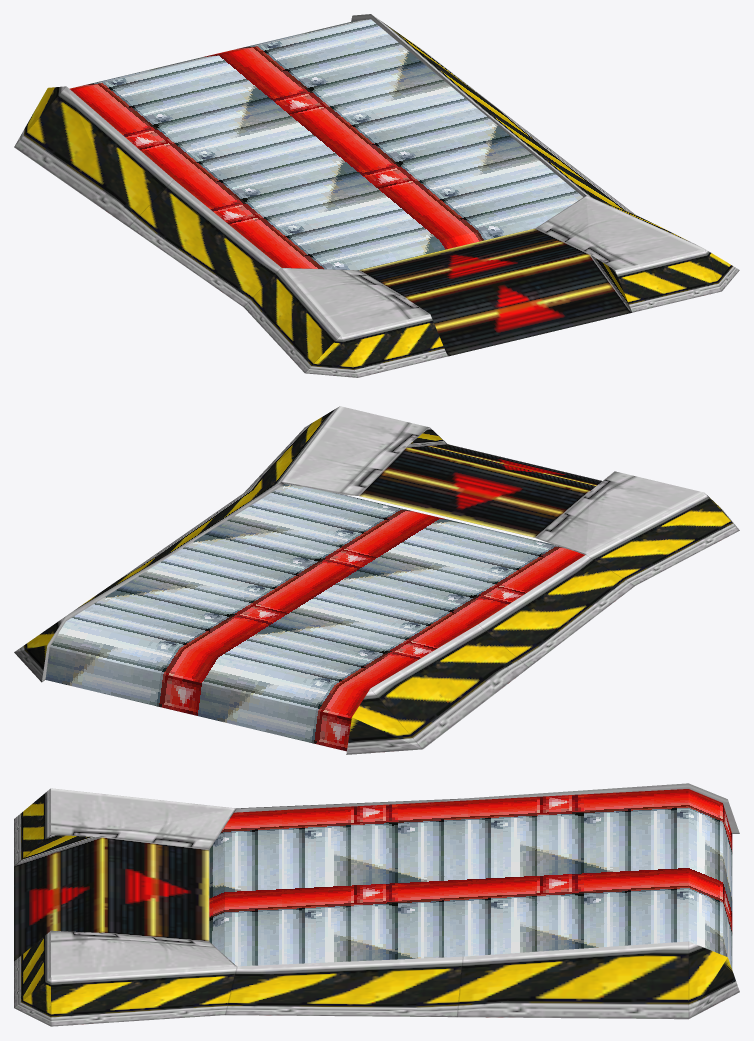
The model's file is Speedpad.obj.
3 renders of one model, top to bottom at view 1: azimuth 30°, elevation 25°; view 2: azimuth 150°, elevation 25°; view 3: azimuth 270°, elevation 25°, orthographic. The views are drawn at different scales.
Visible parts, largest first — view 1: DrawCall_0141, DrawCall_0142; view 2: DrawCall_0141, DrawCall_0142; view 3: DrawCall_0141, DrawCall_0142.
Boxes of the visible parts, x1,y1,x2,y2 form: DrawCall_0141: (69, 19, 583, 270); DrawCall_0142: (14, 14, 739, 377); DrawCall_0141: (45, 484, 584, 751); DrawCall_0142: (14, 406, 739, 754); DrawCall_0141: (209, 789, 732, 969); DrawCall_0142: (14, 783, 739, 1026).
Bounding box in the file's own units: 20 × 2.26 × 27.55.
2 materials, 2 textured.
